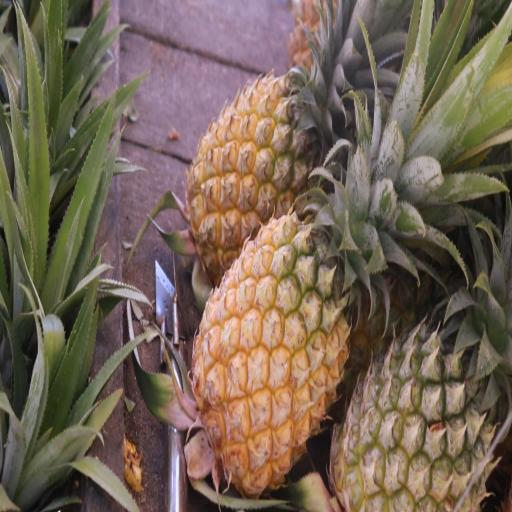Pineapple - v8 v1: (187, 184, 358, 498), (178, 62, 344, 285)
